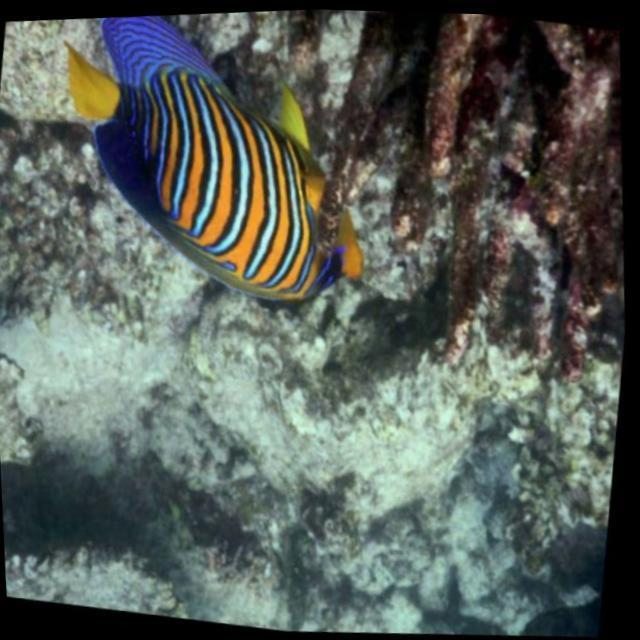Dead Coral: (399, 12, 640, 375)
